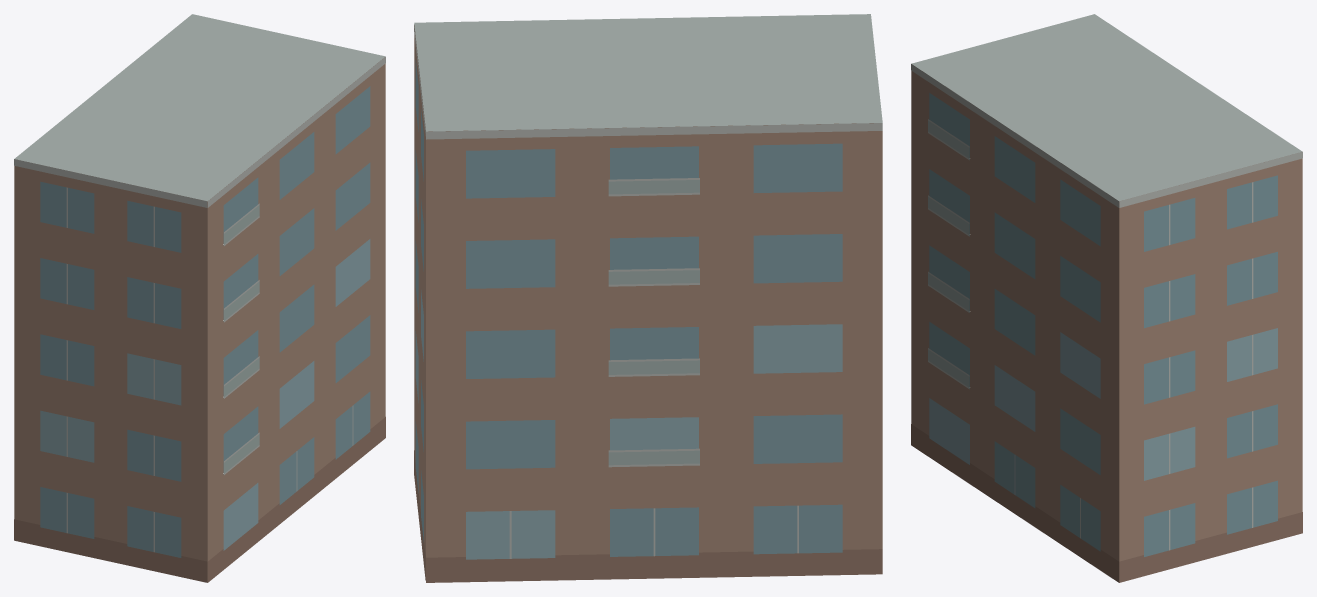
Rendered from survey-upis-32758867.glb.
3 renders of one model, left to right at view 1: azimuth 30°, elevation 25°; view 2: azimuth 150°, elevation 25°; view 3: azimuth 270°, elevation 25°, orthographic. The views are drawn at different scales.
Parts seen in each view (by area): view 1: survey-upis-32758867.tmp; view 2: survey-upis-32758867.tmp; view 3: survey-upis-32758867.tmp.
Part boxes in pixels (bbox=[...]): survey-upis-32758867.tmp: bbox=[14, 14, 385, 582]; survey-upis-32758867.tmp: bbox=[414, 14, 882, 582]; survey-upis-32758867.tmp: bbox=[911, 14, 1302, 582].
Bounding box in the file's own units: 14.49 × 13.75 × 12.8.
